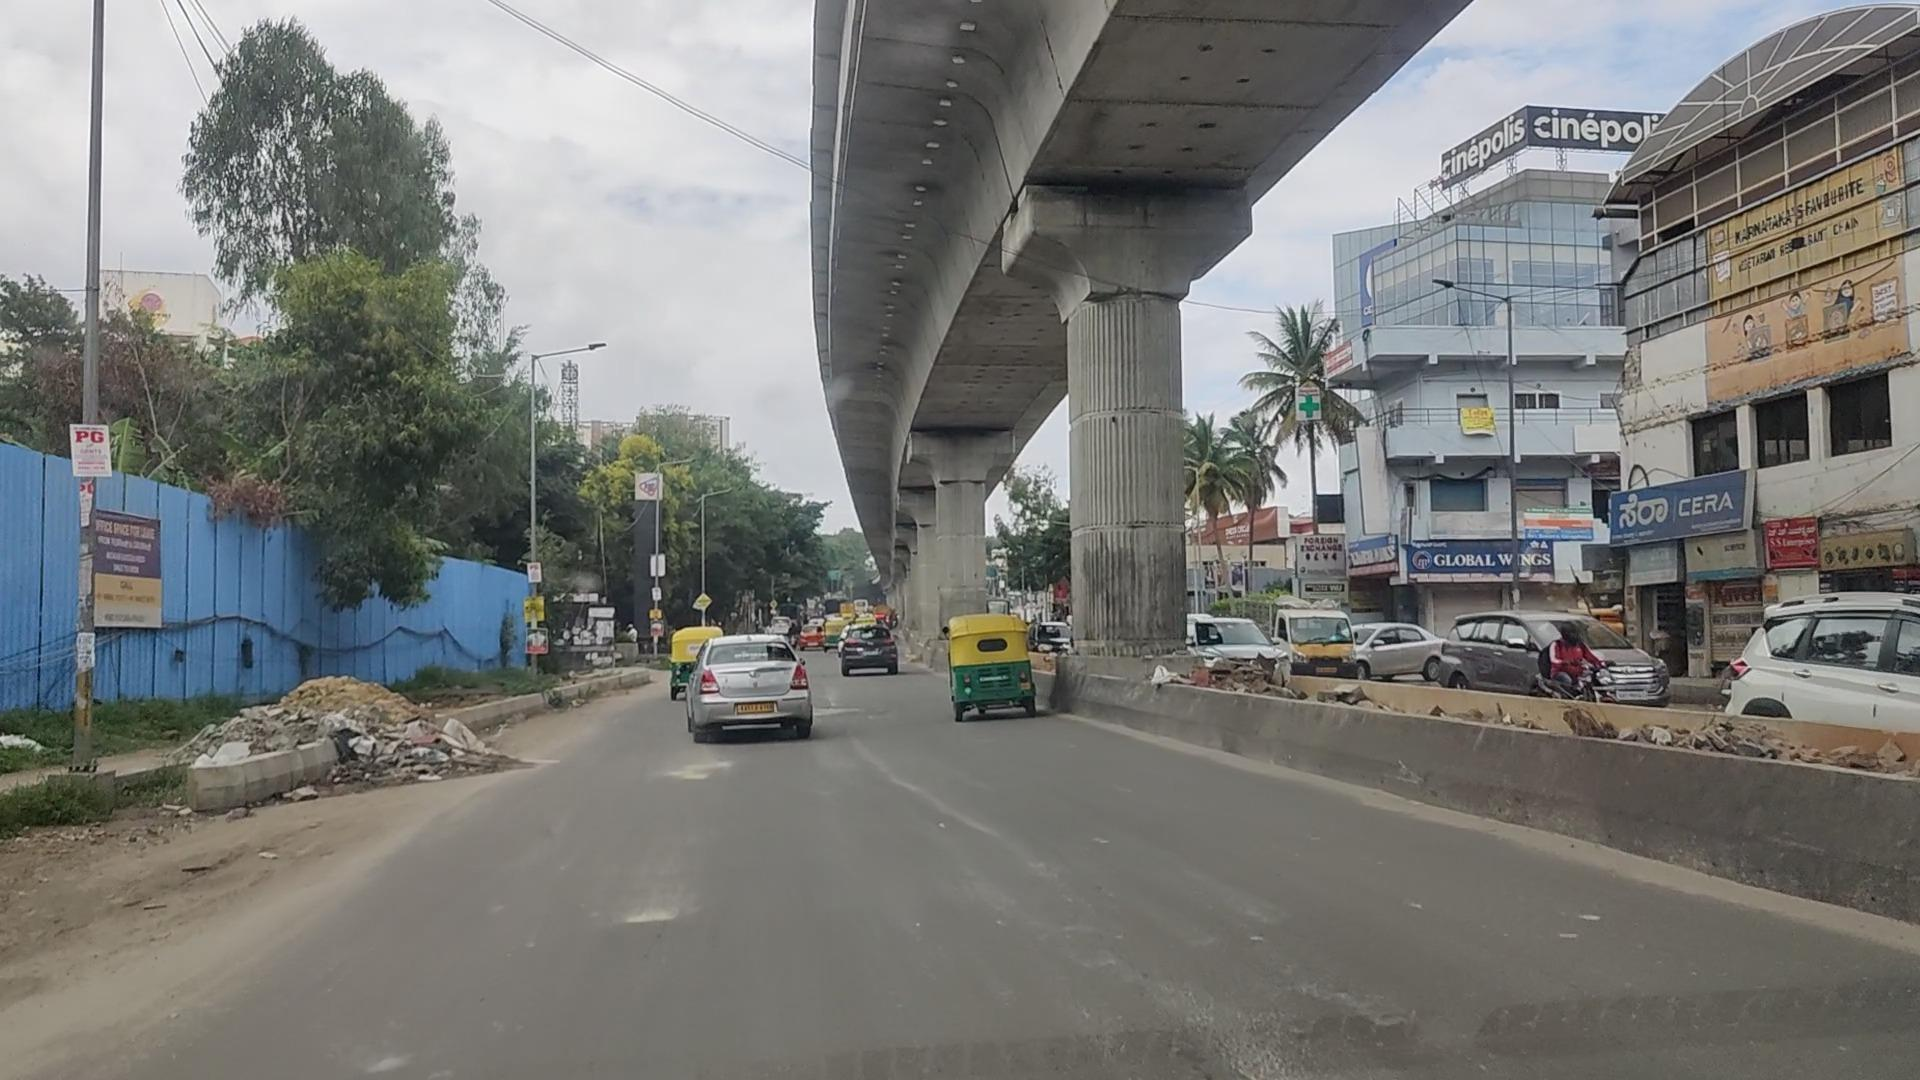LMV: (680, 626, 816, 757), (942, 613, 1038, 724)
